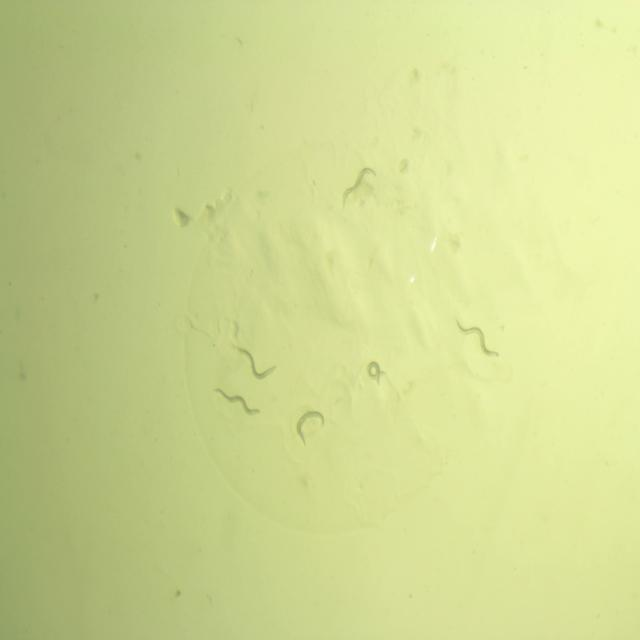worm: (335, 160, 380, 215), (451, 314, 502, 362), (233, 343, 280, 384), (211, 383, 264, 418), (292, 408, 328, 446), (362, 356, 390, 386)
